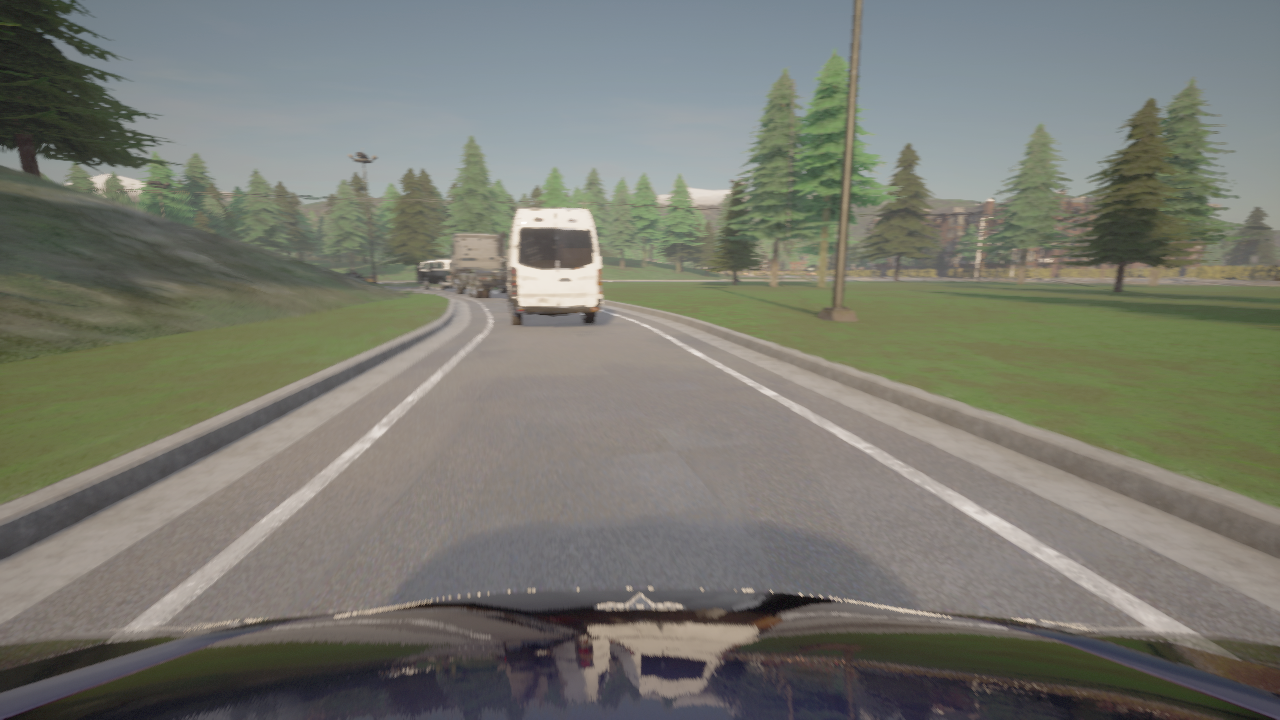cyclist: (0, 588, 1279, 719), (500, 207, 601, 325), (445, 232, 507, 298), (419, 259, 466, 290), (344, 273, 364, 279)
